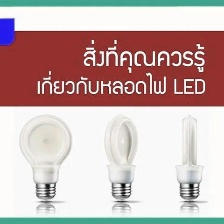light_bulb: (18, 112, 73, 203), (99, 110, 145, 206), (170, 110, 207, 204)
